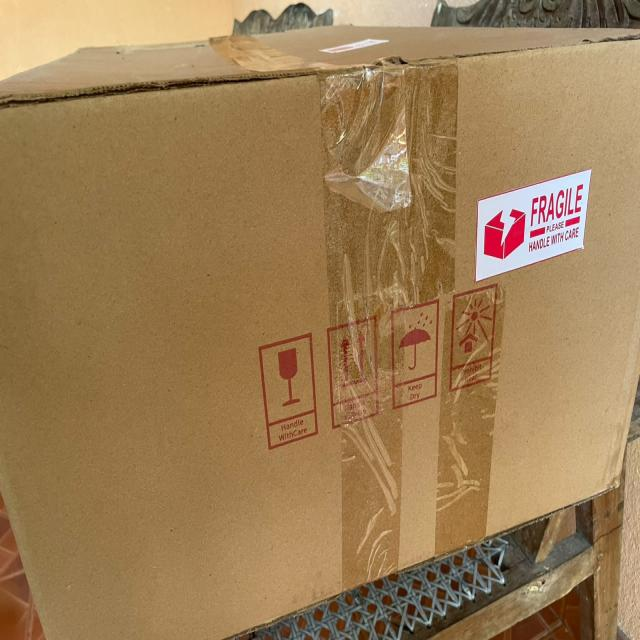carton_box: (0, 31, 640, 640)
fragile_label: (476, 174, 593, 275), (259, 330, 324, 450)
keep_dry_label: (392, 296, 442, 406)
protect_from_heat_label: (452, 291, 499, 396)
this_side_up_label: (328, 308, 384, 422)
